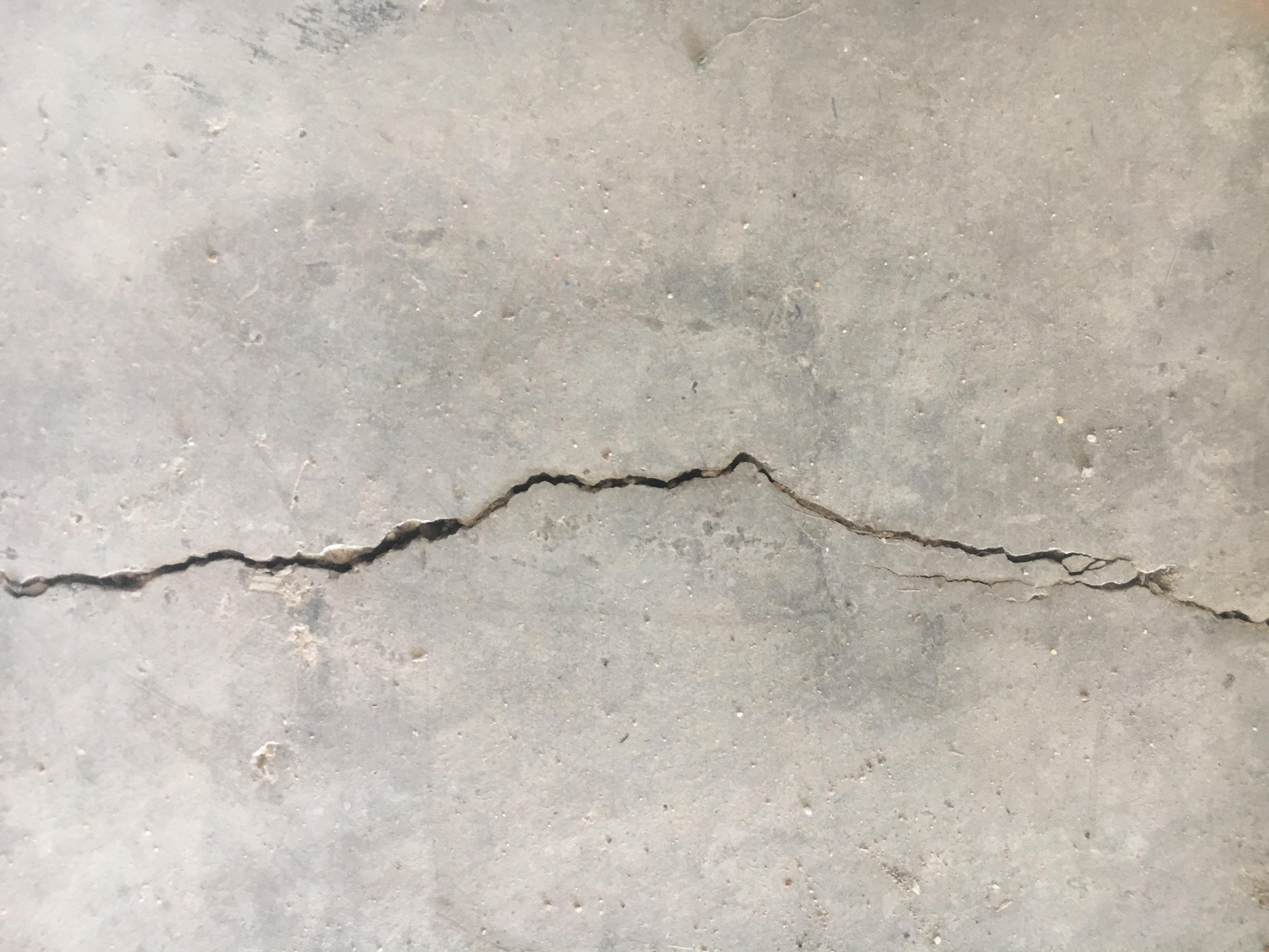Horizontal Settlement Crack: (3, 449, 1265, 628)
